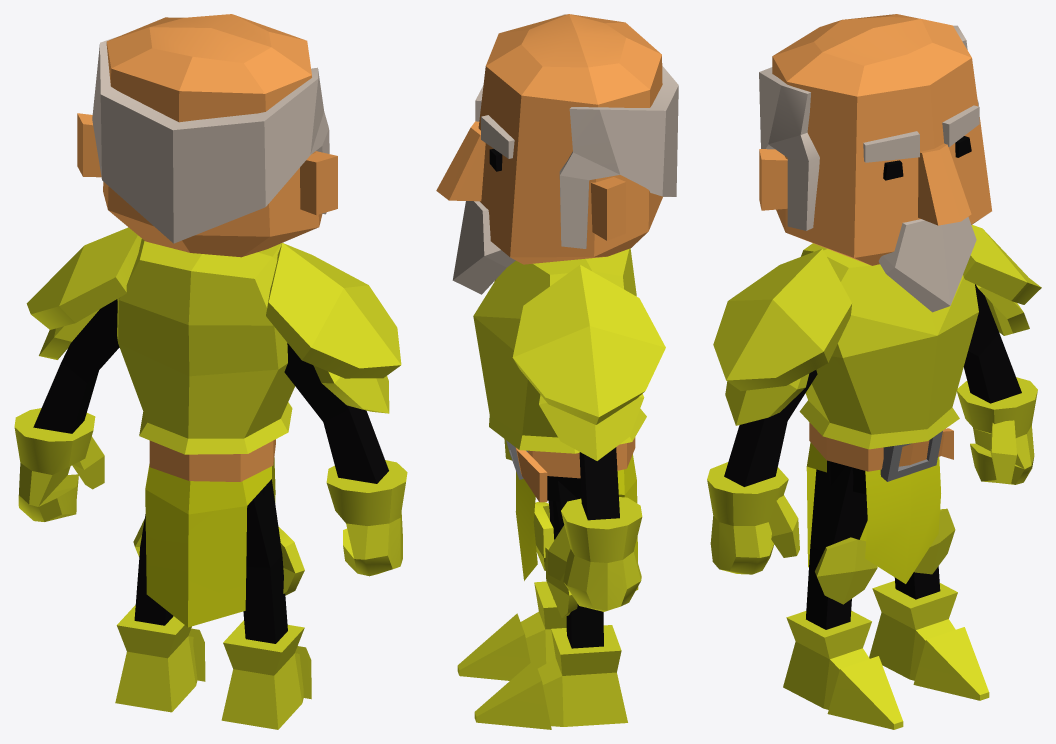
File: npc5.glb
3 renders of one model, left to right at view 1: azimuth 30°, elevation 25°; view 2: azimuth 150°, elevation 25°; view 3: azimuth 270°, elevation 25°, orthographic. The views are drawn at different scales.
Visible parts, largest first — view 1: npc5; view 2: npc5; view 3: npc5.
Boxes of the visible parts, x1=… form: npc5: x1=14, y1=14, x2=407, y2=729; npc5: x1=436, y1=14, x2=678, y2=729; npc5: x1=707, y1=14, x2=1041, y2=729.
Bounding box in the file's own units: 0.6699 × 1.64 × 0.7659.
Materials: 1 (1 with a texture image).
